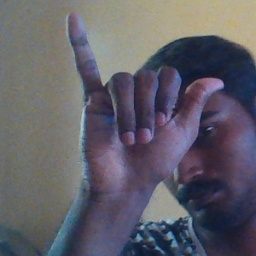J: (65, 13, 226, 191)
